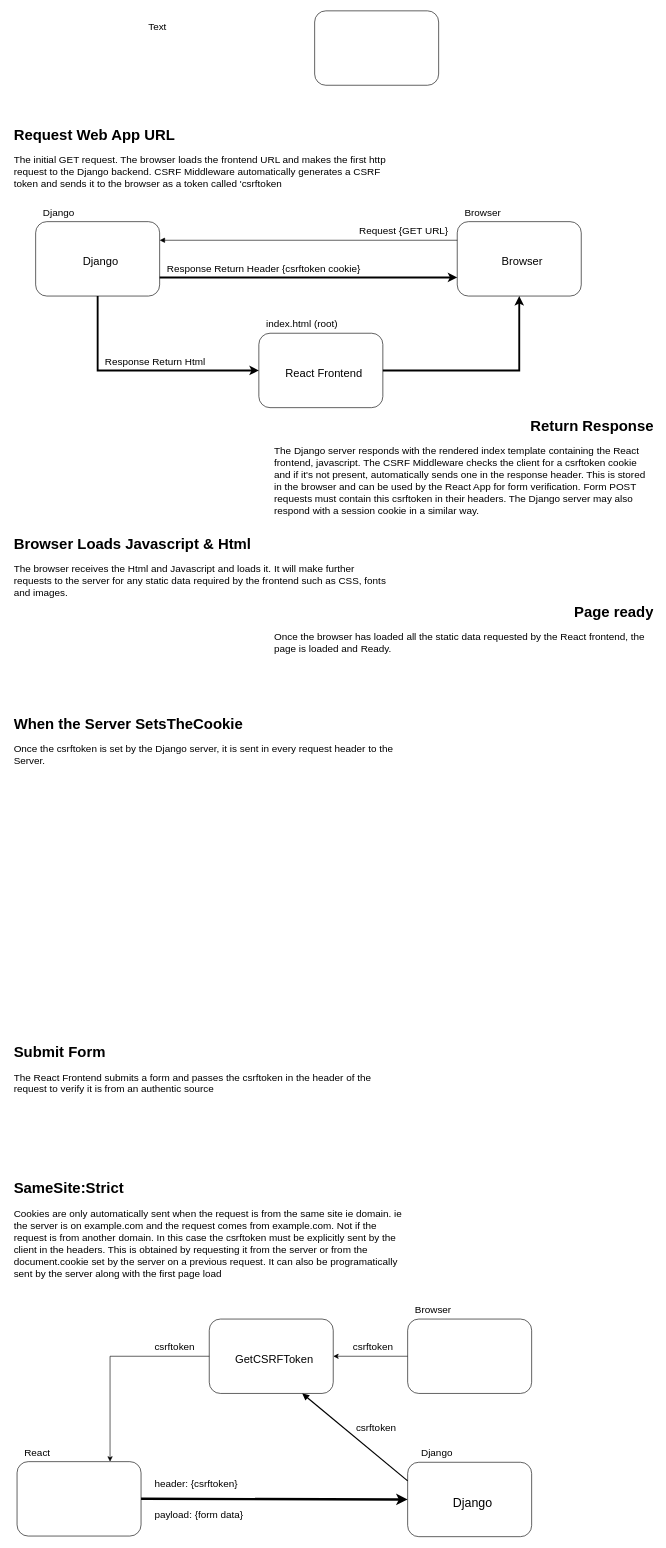
The diagram is 666 pixels wide and 1548 high, and some of its shapes have lost their labels. The shapes that lost their labels are listed below. From the top down, each one's centre as x and y in pixels, then its label:
At point (469, 1355): "document.cookies".
At point (78, 1498): "< form ../>".
